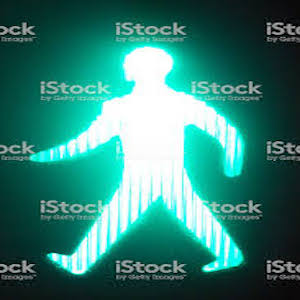green: (31, 44, 237, 278)
